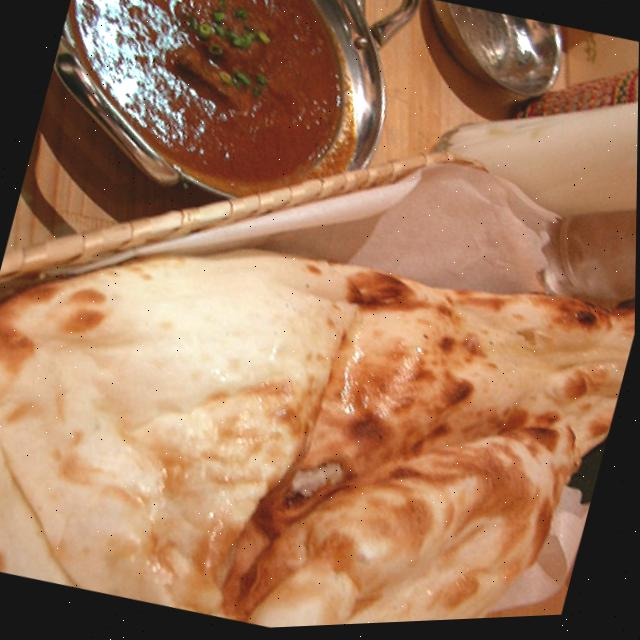牛肉菜式: (27, 0, 430, 244)
